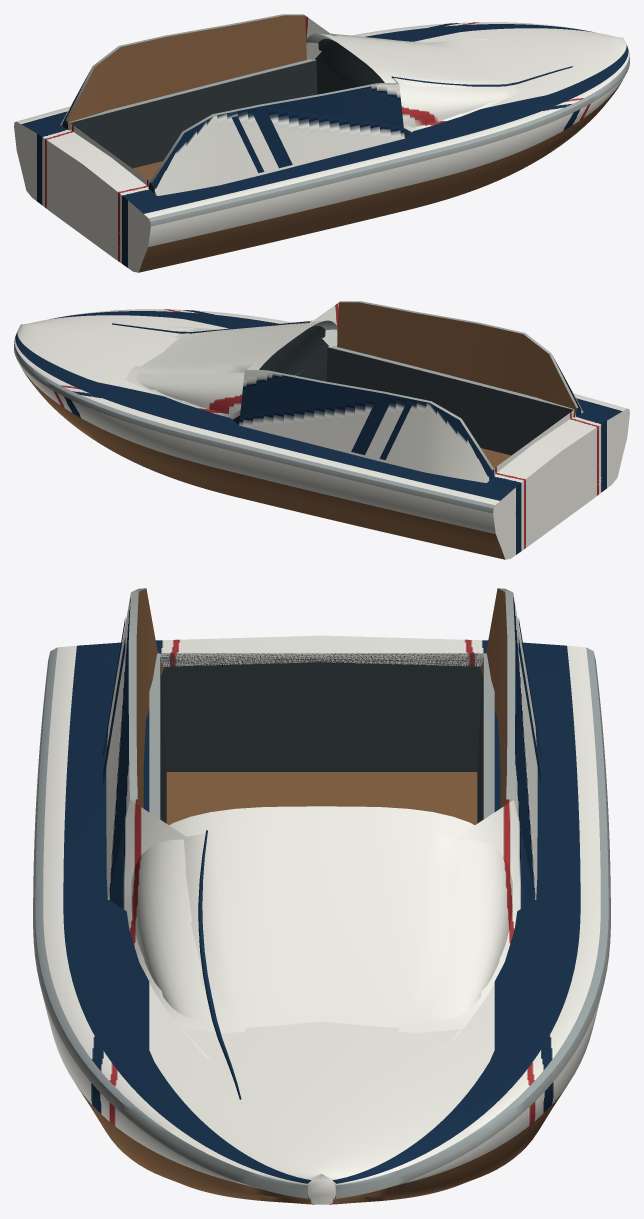
Rendered from Hull_02_N_紺舷・二本線.glb.
3 views of the same model, one above another, from view 1: azimuth 30°, elevation 25°; view 2: azimuth 150°, elevation 25°; view 3: azimuth 270°, elevation 25° (orthographic). The views are drawn at different scales.
Parts seen in each view (by area): view 1: Hull_02_N; view 2: Hull_02_N; view 3: Hull_02_N.
Part boxes in pixels (x1=…): Hull_02_N: x1=14, y1=14, x2=629, y2=272; Hull_02_N: x1=14, y1=301, x2=629, y2=559; Hull_02_N: x1=33, y1=588, x2=610, y2=1204.
Size of the model in its own units: 2.9 by 0.6856 by 1.34.
4 materials, 4 textured.
